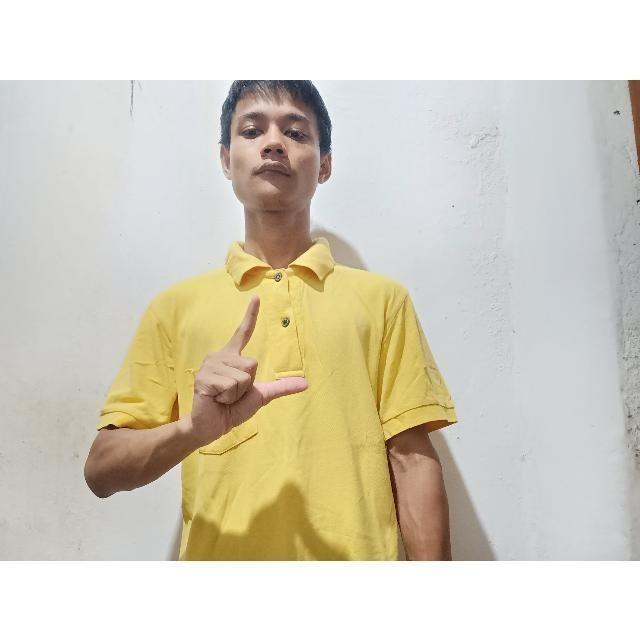L: (170, 271, 322, 454)
